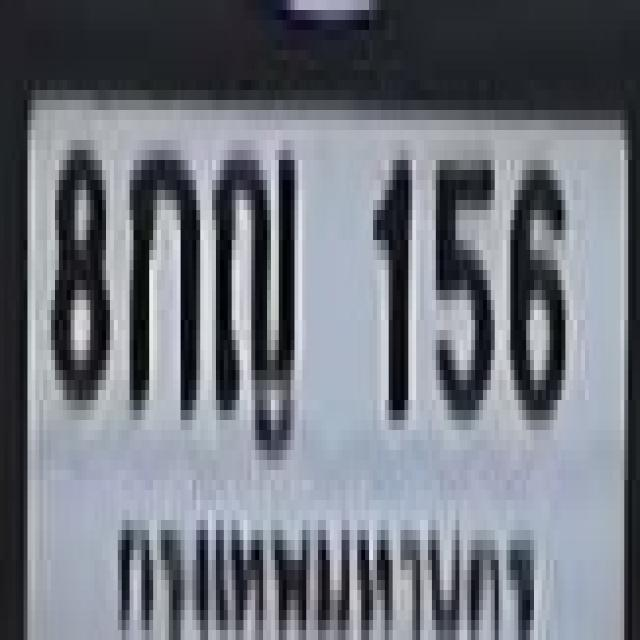-: (210, 135, 293, 415), (126, 140, 196, 410)
1: (369, 150, 408, 410)
5: (432, 150, 491, 410)
6: (506, 150, 562, 410)
8: (47, 140, 106, 400)
BKK: (100, 479, 537, 640)
